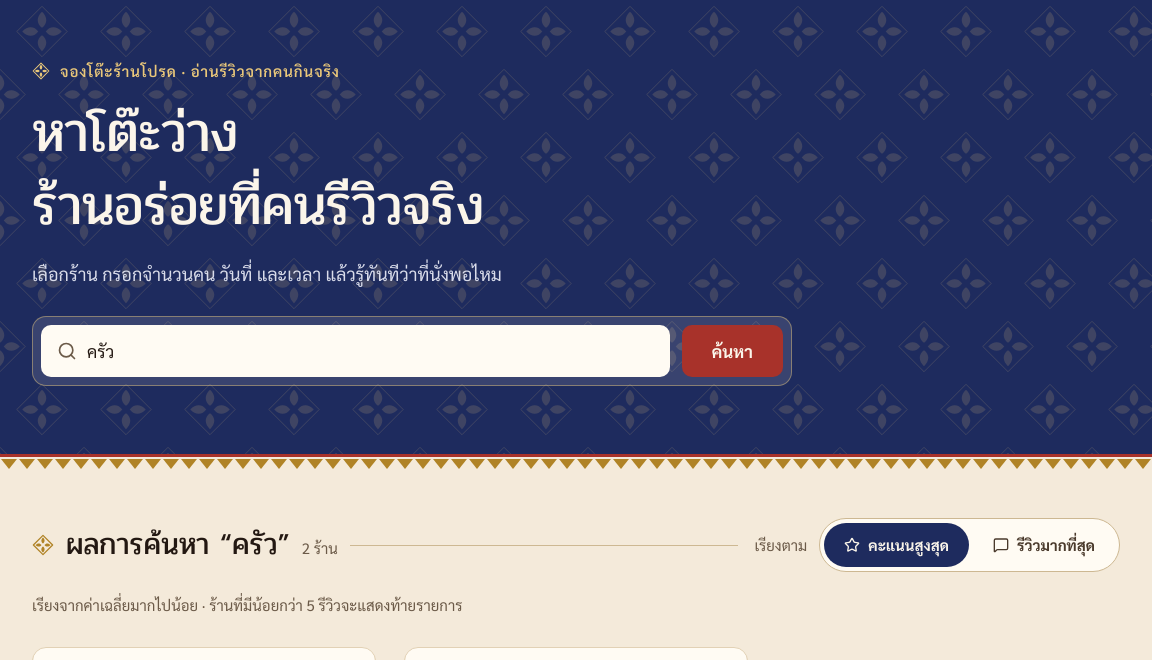
Scenario: RestaurantSearch › เปลี่ยนการเรียง → ค้นใหม่ และจำใน URL
Check: the search field named "ค้นหาร้าน" holds "ครัว", box [87,338,654,364]
Click the button "รีวิวมากที่สุด" at (1044, 545), box [973,523,1115,567]
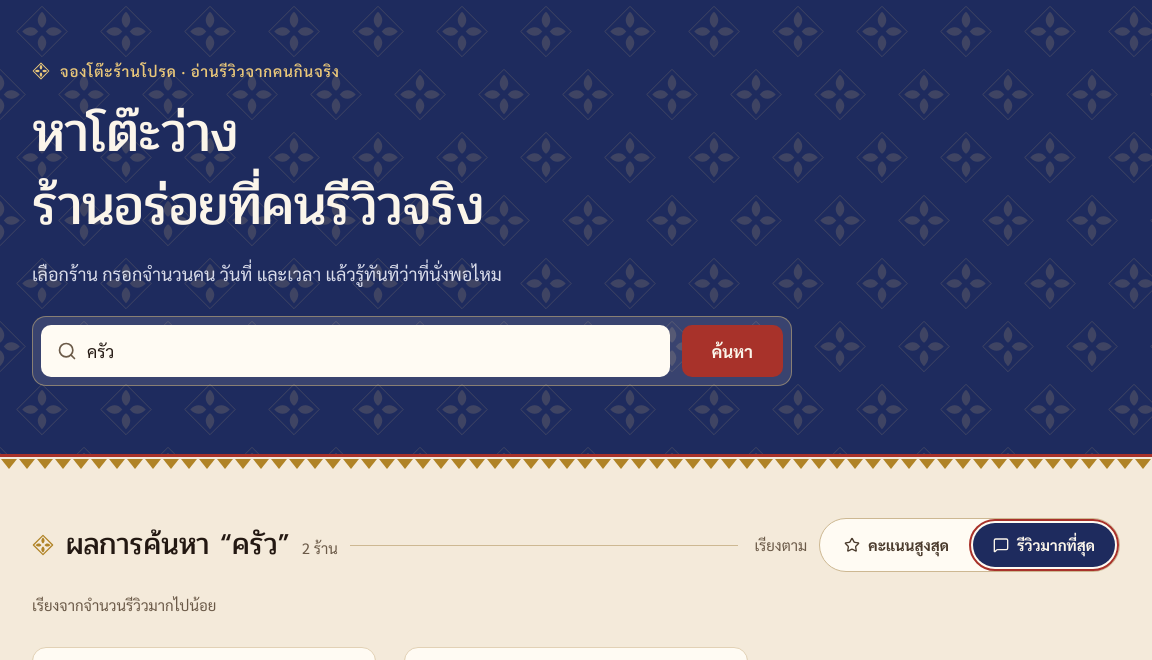
Check: the text "เรียงจากจำนวนรีวิวมากไปน้อย" is shown, box [32,595,216,614]
